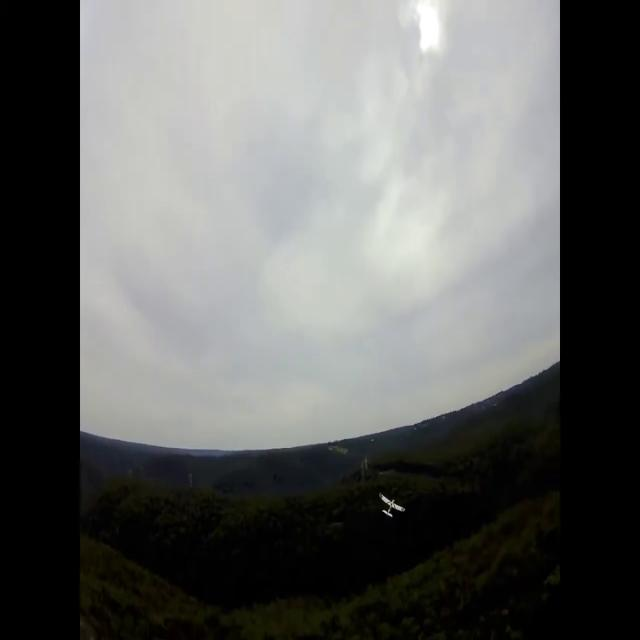iha: (374, 492, 399, 516)
